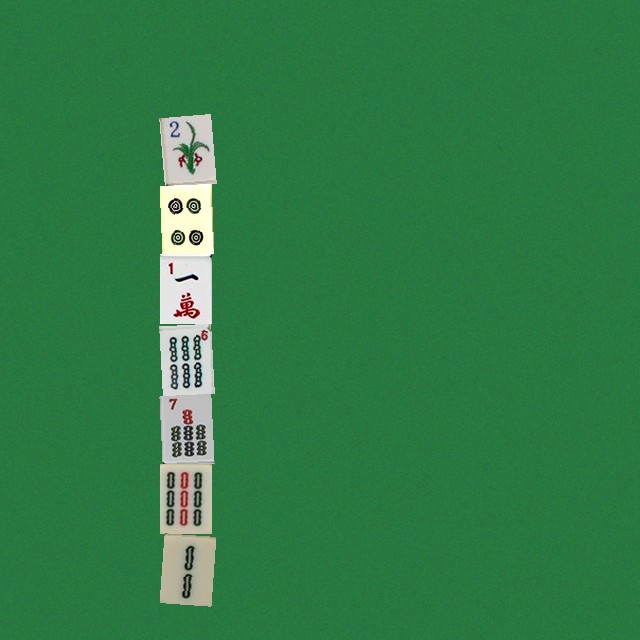tile: (159, 113, 211, 183), (159, 183, 211, 253), (159, 253, 211, 323), (159, 323, 211, 393), (159, 393, 211, 463), (159, 463, 211, 533), (159, 533, 211, 603)
